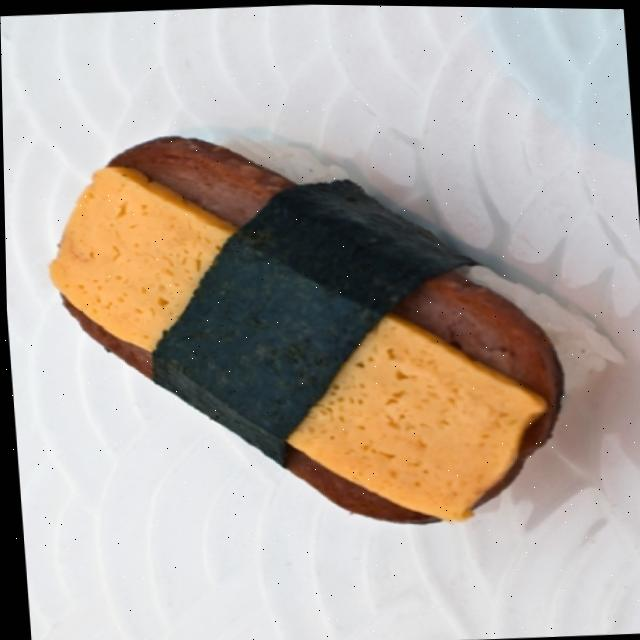寿司卷物: (7, 67, 626, 582)
